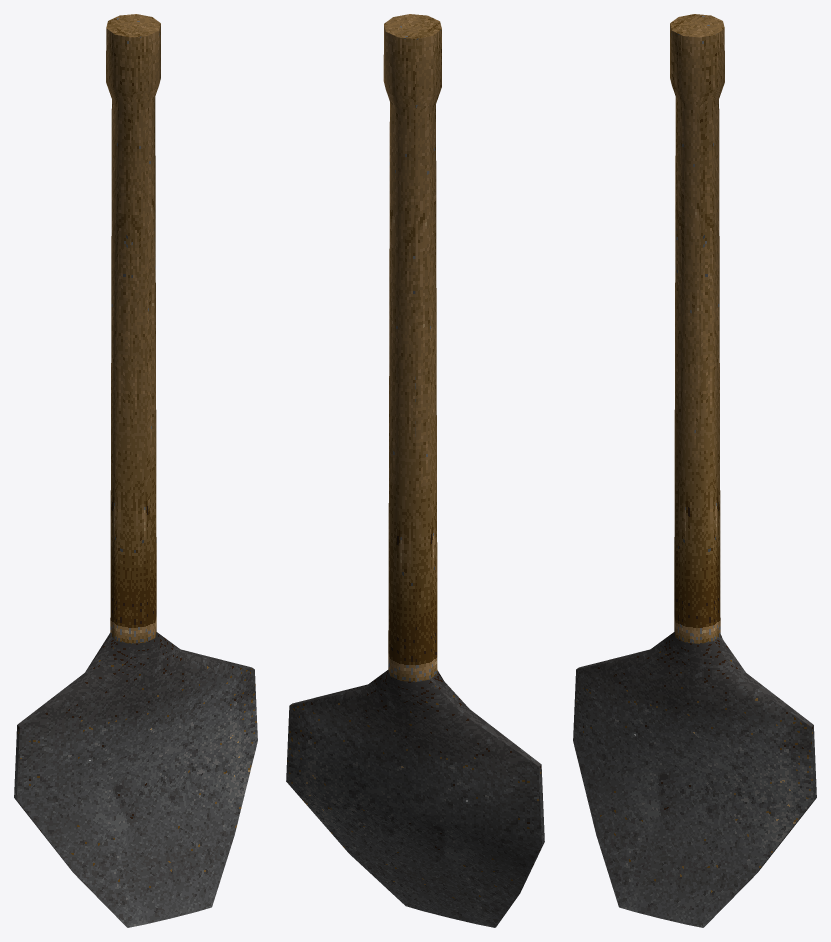
The model's file is retro_shovel.glb.
The picture shows the model from 3 angles, left to right: view 1: azimuth 30°, elevation 25°; view 2: azimuth 150°, elevation 25°; view 3: azimuth 330°, elevation 25°; orthographic projection. The views are drawn at different scales.
Visible parts, largest first — view 1: Cylinder; view 2: Cylinder; view 3: Cylinder.
Boxes of the visible parts, x1,y1,x2,y2 form: Cylinder: (14,14,257,927); Cylinder: (286,14,544,927); Cylinder: (573,14,816,927).
Size of the model in its own units: 0.3499 by 1.2 by 0.1293.
Materials: 1 (1 with a texture image).
